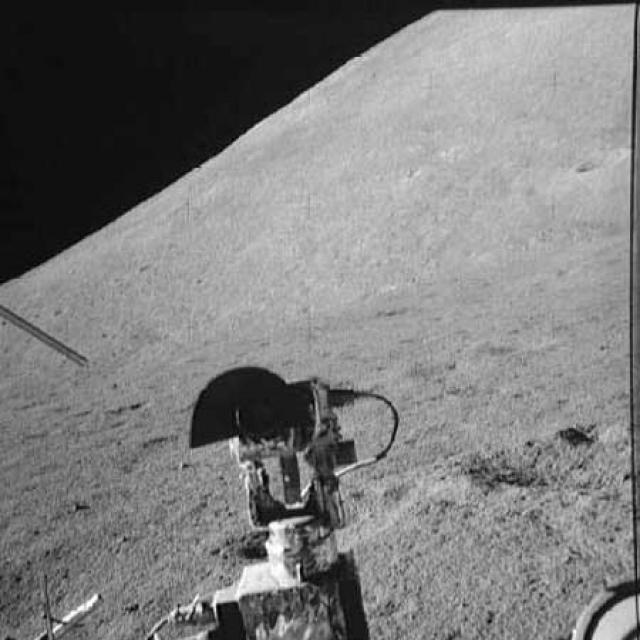artifact: (148, 357, 407, 639), (0, 302, 94, 372), (14, 569, 108, 638), (558, 573, 638, 639)
crater: (461, 423, 638, 492)
